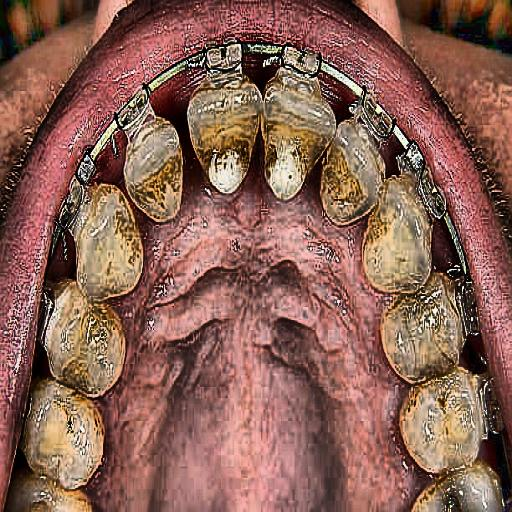Calculus: (51, 96, 182, 512), (188, 67, 439, 282), (370, 292, 508, 512)
